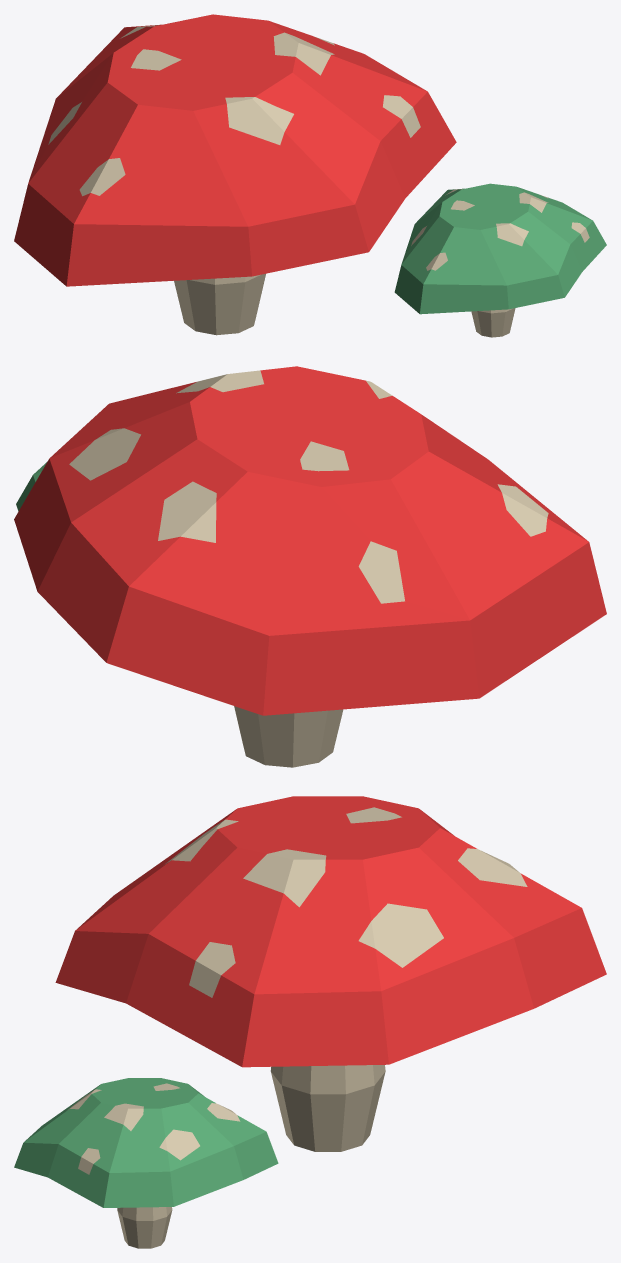
The model's file is mushrooms.fbx.
3 views of the same model, one above another, from view 1: azimuth 30°, elevation 25°; view 2: azimuth 150°, elevation 25°; view 3: azimuth 270°, elevation 25° (orthographic). The views are drawn at different scales.
Visible parts, largest first — view 1: Mushrooms; view 2: Mushrooms; view 3: Mushrooms.
Boxes of the visible parts, bbox=[...] form: Mushrooms: bbox=[14, 14, 606, 337]; Mushrooms: bbox=[14, 366, 606, 767]; Mushrooms: bbox=[14, 796, 606, 1248].
Size of the model in its own units: 344 by 182 by 315.
